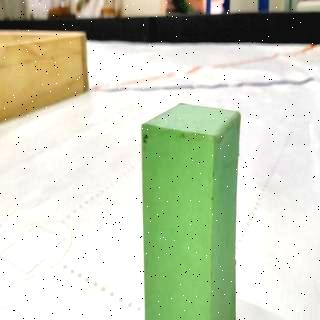greenbox: (140, 101, 242, 320)
